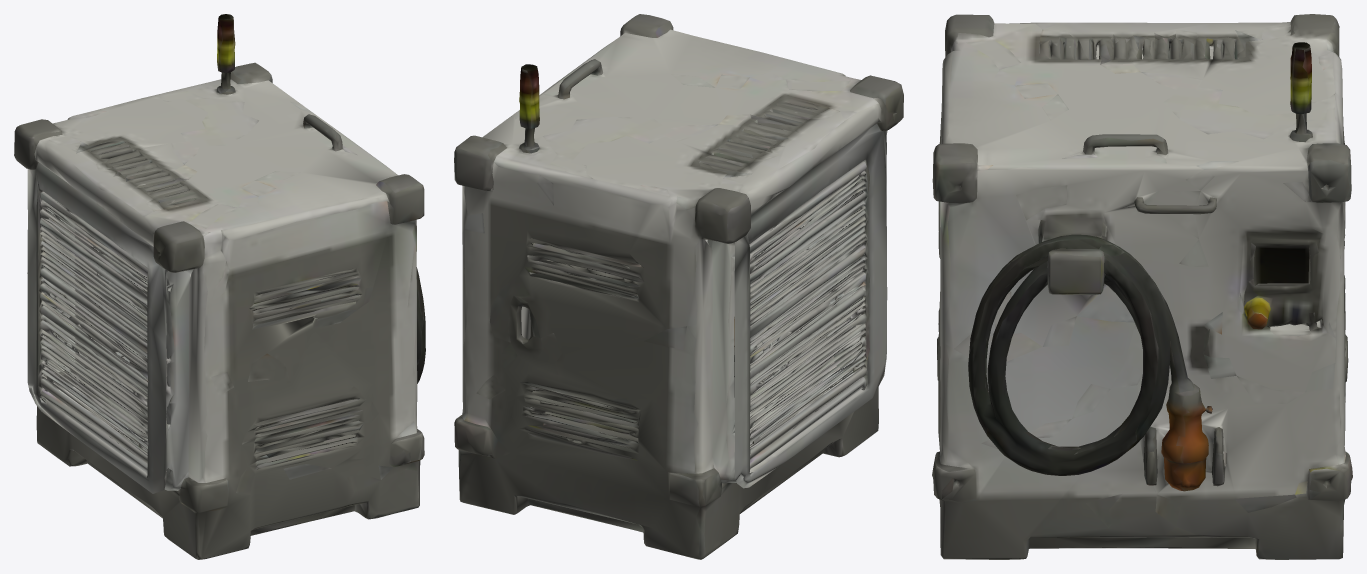
The model's file is forklift_charging_station.glb.
3 renders of one model, left to right at view 1: azimuth 30°, elevation 25°; view 2: azimuth 150°, elevation 25°; view 3: azimuth 270°, elevation 25°, orthographic. The views are drawn at different scales.
Parts seen in each view (by area): view 1: geometry_0; view 2: geometry_0; view 3: geometry_0.
Boxes of the visible parts, <box> form: geometry_0: <box>14,14,425,559</box>; geometry_0: <box>454,14,903,559</box>; geometry_0: <box>932,14,1352,559</box>.
Bounding box in the file's own units: 0.7469 × 1 × 0.7861.
1 material, 1 textured.
